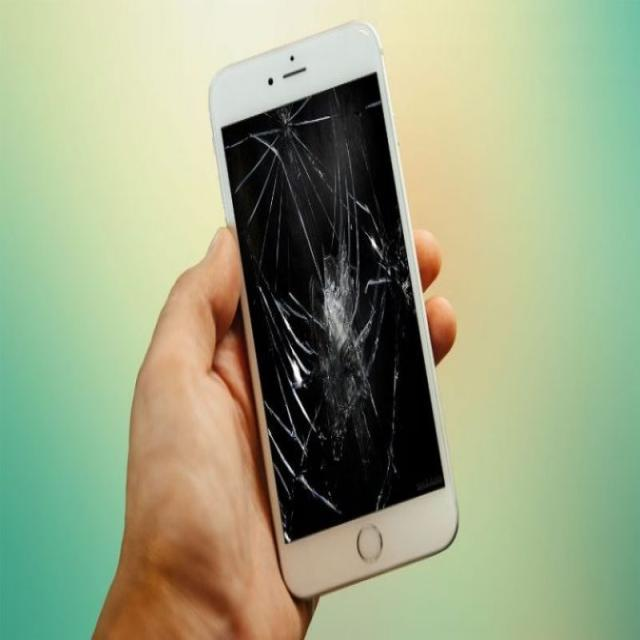phone: (193, 72, 448, 584), (369, 19, 371, 21)
